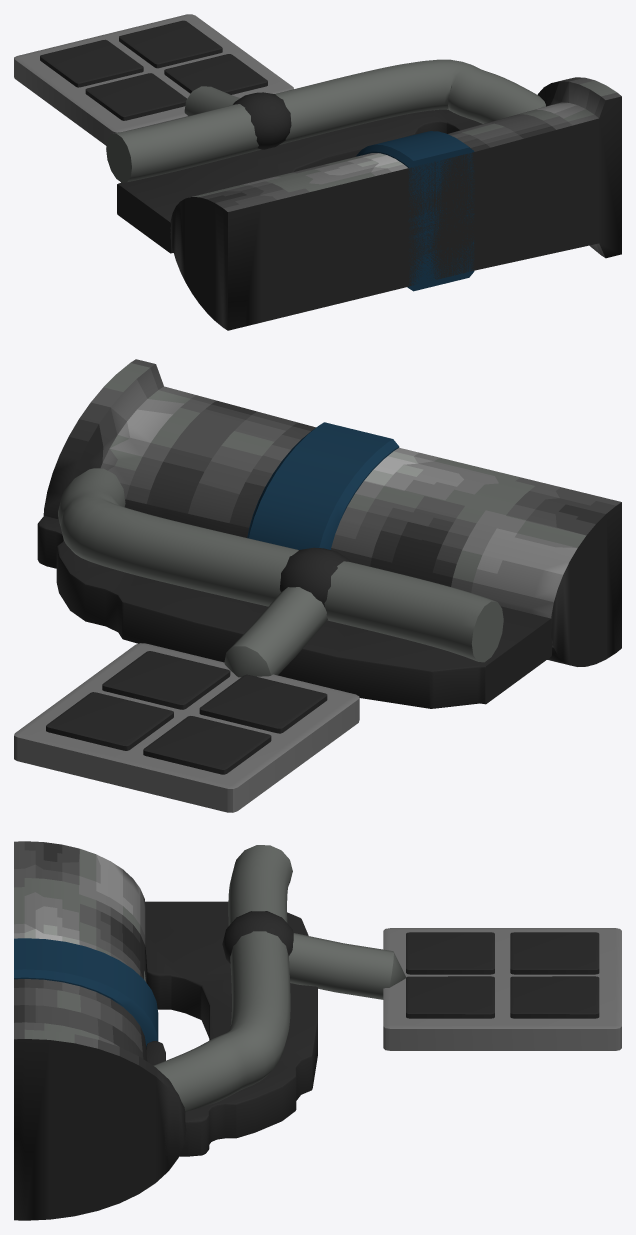
The model's file is station_r_tr.glb.
The picture shows the model from 3 angles, top to bottom: view 1: azimuth 30°, elevation 25°; view 2: azimuth 150°, elevation 25°; view 3: azimuth 270°, elevation 25°; orthographic projection. The views are drawn at different scales.
Parts seen in each view (by area): view 1: station_r_tr_axle_r, station_r_tr_strut_r, station_r_tr_web0_r, station_r_tr_panel_up_frame_r, station_r_tr_blue_band_r, station_r_tr_panel_up_cell3_r, station_r_tr_panel_up_cell2_r, station_r_tr_panel_up_cell1_r, station_r_tr_panel_up_cell0_r, station_r_tr_knuckle_r, station_r_tr_stem_r; view 2: station_r_tr_axle_r, station_r_tr_web0_r, station_r_tr_strut_r, station_r_tr_panel_up_frame_r, station_r_tr_blue_band_r, station_r_tr_stem_r, station_r_tr_panel_up_cell1_r, station_r_tr_panel_up_cell0_r, station_r_tr_panel_up_cell2_r, station_r_tr_panel_up_cell3_r, station_r_tr_knuckle_r; view 3: station_r_tr_axle_r, station_r_tr_web0_r, station_r_tr_strut_r, station_r_tr_panel_up_frame_r, station_r_tr_blue_band_r, station_r_tr_stem_r, station_r_tr_panel_up_cell2_r, station_r_tr_panel_up_cell3_r, station_r_tr_panel_up_cell0_r, station_r_tr_panel_up_cell1_r, station_r_tr_knuckle_r.
Boxes of the visible parts, x1,y1,x2,y2 form: station_r_tr_axle_r: (170,77,621,330); station_r_tr_strut_r: (106,59,545,182); station_r_tr_web0_r: (117,109,482,253); station_r_tr_panel_up_frame_r: (14,14,293,145); station_r_tr_blue_band_r: (356,131,474,291); station_r_tr_panel_up_cell3_r: (119,20,222,68); station_r_tr_panel_up_cell2_r: (40,39,143,87); station_r_tr_panel_up_cell1_r: (85,73,186,120); station_r_tr_panel_up_cell0_r: (164,54,267,94); station_r_tr_knuckle_r: (233,92,291,149); station_r_tr_stem_r: (184,86,240,116); station_r_tr_axle_r: (43,359,621,666); station_r_tr_web0_r: (37,516,551,708); station_r_tr_strut_r: (58,468,503,662); station_r_tr_panel_up_frame_r: (14,643,359,812); station_r_tr_blue_band_r: (247,422,399,549); station_r_tr_stem_r: (224,587,327,677); station_r_tr_panel_up_cell1_r: (199,674,327,733); station_r_tr_panel_up_cell0_r: (102,651,230,709); station_r_tr_panel_up_cell2_r: (143,716,271,774); station_r_tr_panel_up_cell3_r: (46,692,173,750); station_r_tr_knuckle_r: (280,547,350,607); station_r_tr_axle_r: (14,841,186,1220); station_r_tr_web0_r: (145,901,317,1156); station_r_tr_strut_r: (153,845,292,1111); station_r_tr_panel_up_frame_r: (383,928,621,1050); station_r_tr_blue_band_r: (14,938,158,1046); station_r_tr_stem_r: (289,933,406,999); station_r_tr_panel_up_cell2_r: (510,932,599,974); station_r_tr_panel_up_cell3_r: (510,976,599,1018); station_r_tr_panel_up_cell0_r: (406,976,494,1018); station_r_tr_panel_up_cell1_r: (406,932,494,974); station_r_tr_knuckle_r: (222,911,293,963).
Bounding box in the file's own units: 23.98 × 9.24 × 27.98.
